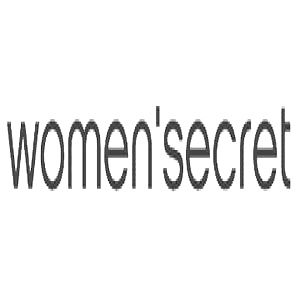women_secret: (291, 50, 297, 148)
